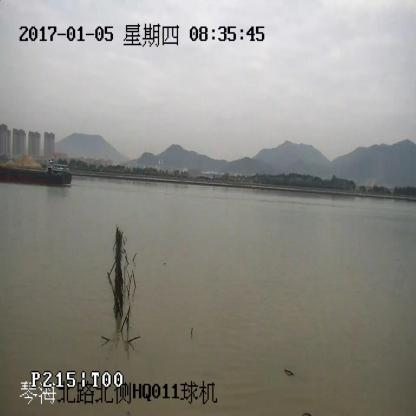Bulk Carrier: (0, 161, 72, 186)
